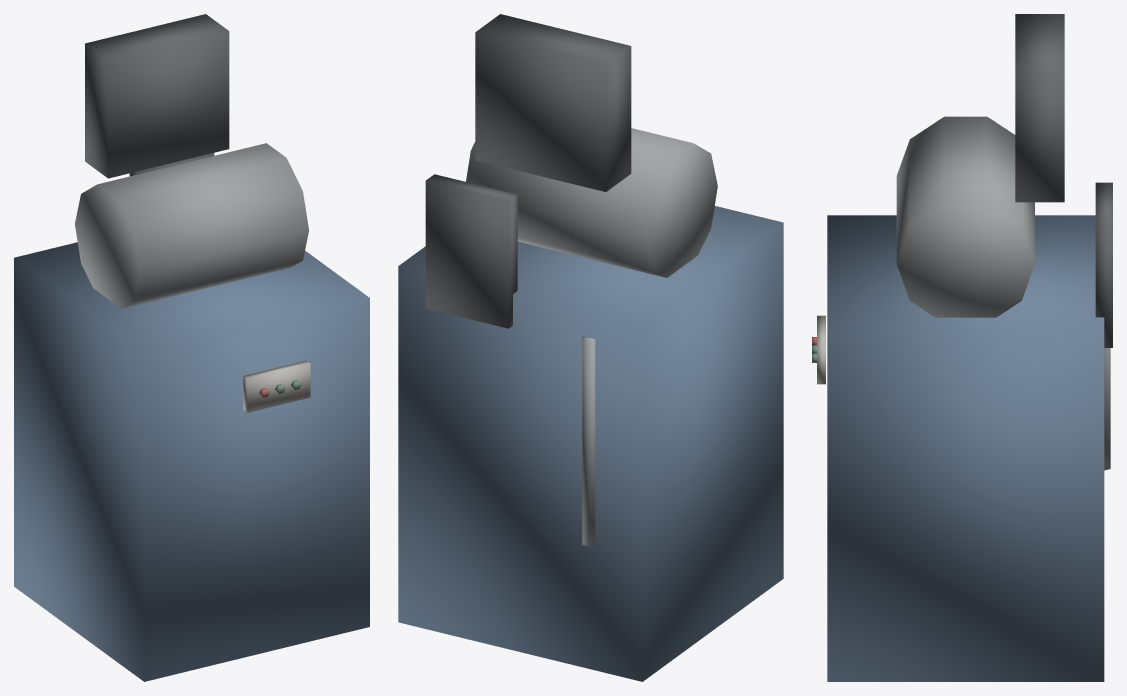
The model's file is tire_changer__service.glb.
The picture shows the model from 3 angles, left to right: view 1: azimuth 30°, elevation 25°; view 2: azimuth 150°, elevation 25°; view 3: azimuth 270°, elevation 25°; orthographic projection. The views are drawn at different scales.
Visible parts, largest first — view 1: world; view 2: world; view 3: world.
Boxes of the visible parts, x1,y1,x2,y2 form: world: (14,14,369,681); world: (398,14,783,681); world: (812,14,1112,681).
Bounding box in the file's own units: 0.56 × 1.29 × 0.6085.
